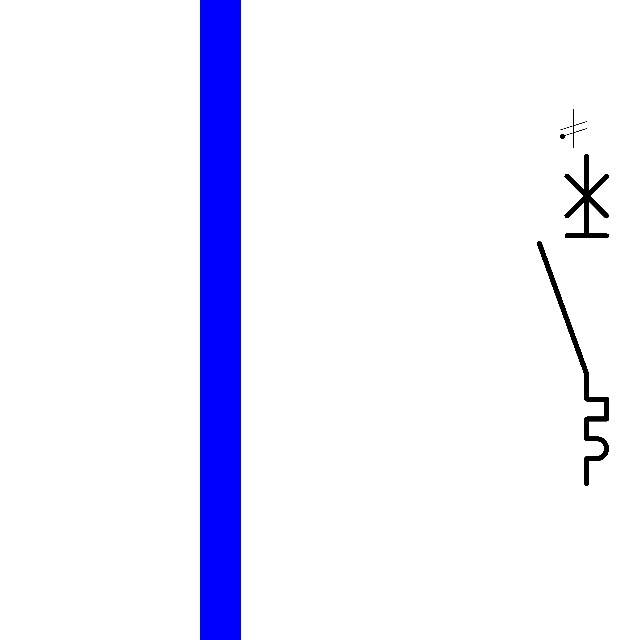interruptor_termomagnetico: (531, 147, 615, 491)
